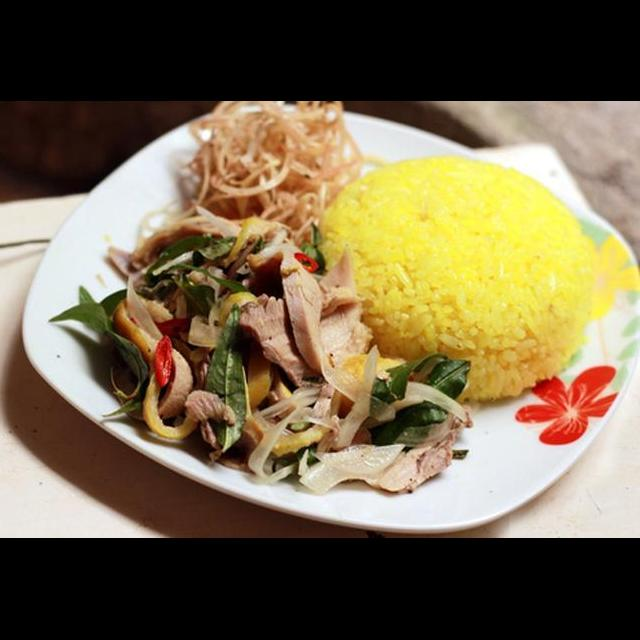com: (311, 150, 600, 408)
com ga: (42, 164, 640, 538)
rau ram: (45, 282, 156, 422), (363, 350, 476, 464), (199, 300, 256, 460), (142, 228, 243, 292)
thit ga: (100, 210, 383, 474), (271, 342, 479, 496)
